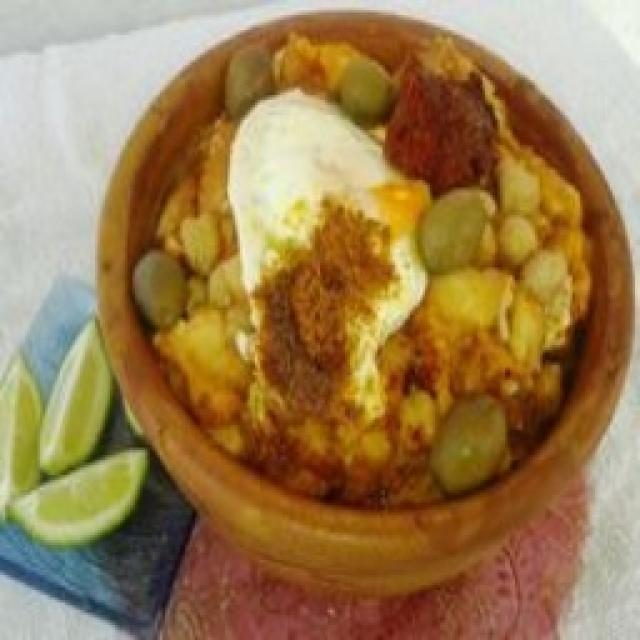Lablabi: (134, 34, 590, 506)
